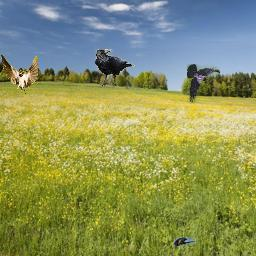Crow: (95, 49, 135, 87), (187, 64, 220, 104)
Swallow: (1, 55, 38, 95), (174, 237, 195, 247)
